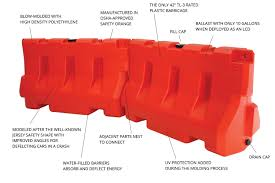barrier: (124, 37, 260, 156), (17, 33, 125, 118)
